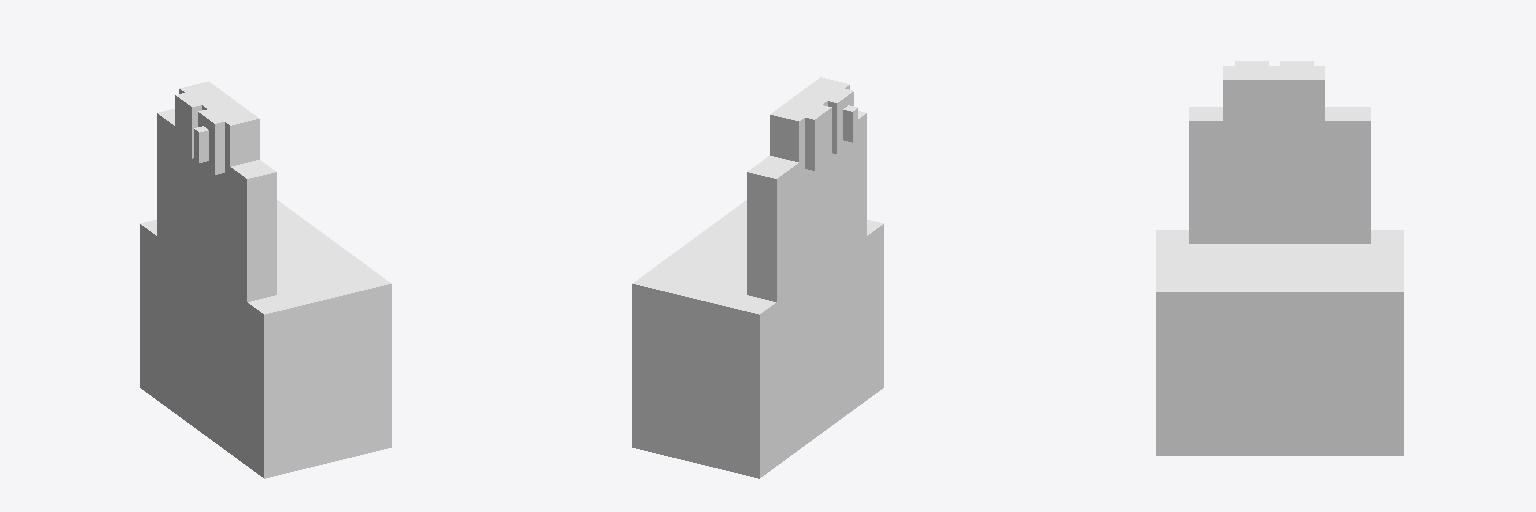
File: NewsPaperBox.obj
3 renders of one model, left to right at view 1: azimuth 30°, elevation 25°; view 2: azimuth 150°, elevation 25°; view 3: azimuth 270°, elevation 25°, orthographic.
Size of the model in its own units: 15 by 32 by 22.